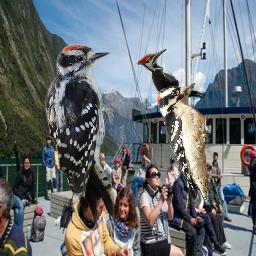Woodpecker: (43, 44, 114, 223), (156, 83, 210, 205), (134, 49, 206, 98)
